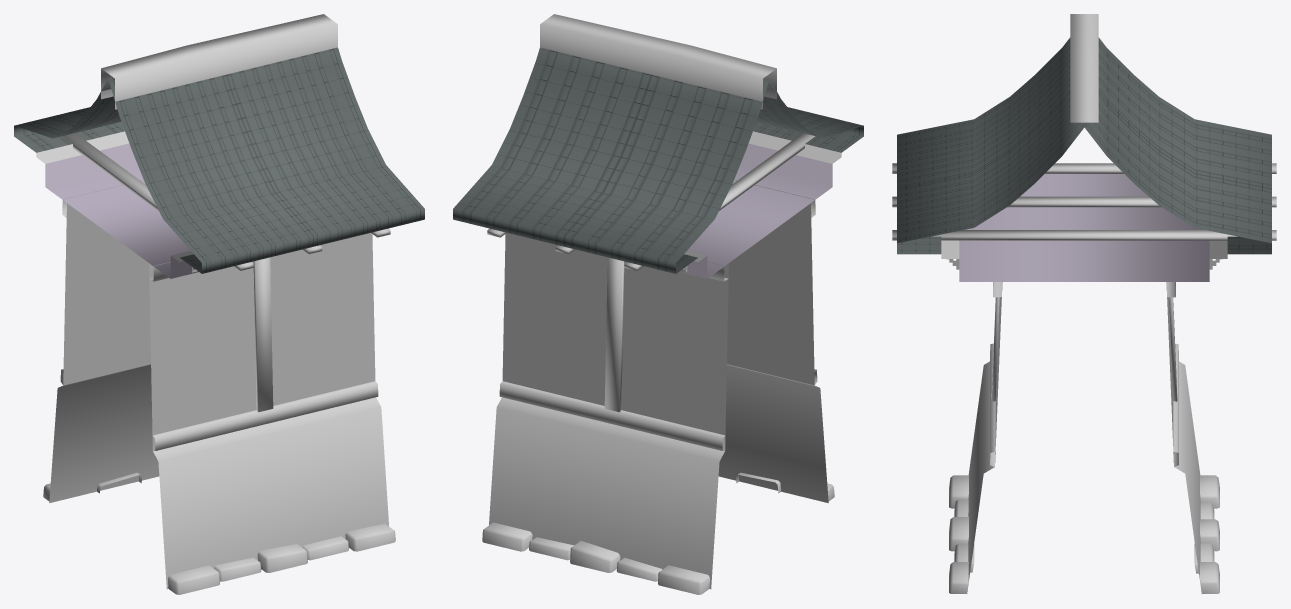
The model's file is Wall_1_3.fbx.
The picture shows the model from 3 angles, left to right: view 1: azimuth 30°, elevation 25°; view 2: azimuth 150°, elevation 25°; view 3: azimuth 270°, elevation 25°; orthographic projection.
Visible parts, largest first — view 1: Wall_1_3; view 2: Wall_1_3; view 3: Wall_1_3.
Part boxes in pixels (x1,y1,x2,y2): Wall_1_3: (14,14,424,594); Wall_1_3: (453,14,863,594); Wall_1_3: (892,14,1276,593).
Bounding box in the file's own units: 4 × 8.15 × 5.98.
